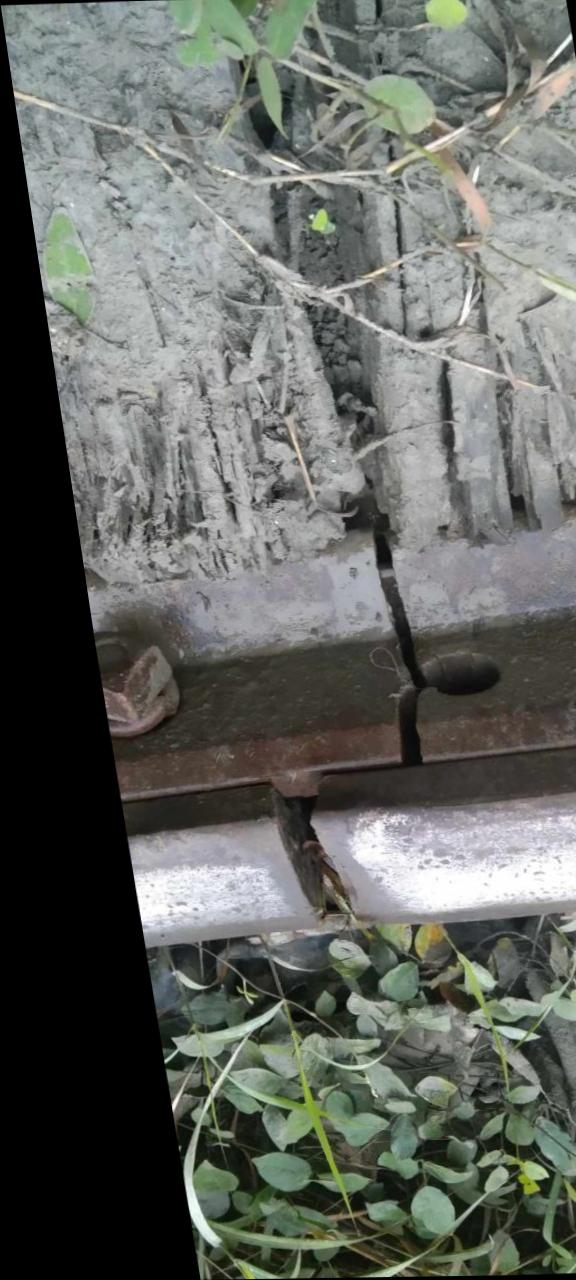person: (138, 721, 417, 1004), (296, 524, 461, 786)
